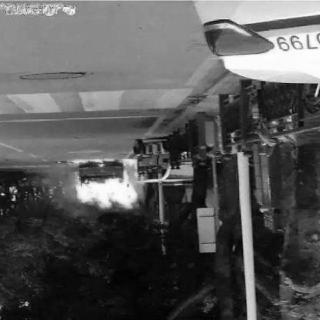Fire: (58, 152, 154, 216)
